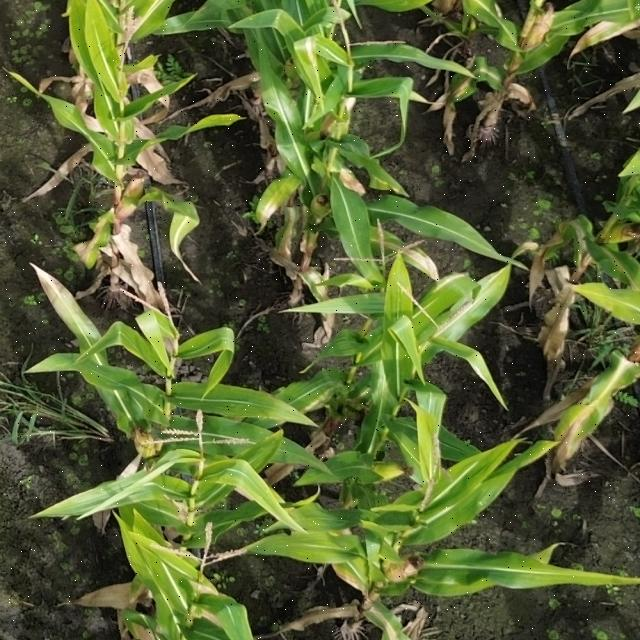northern-leaf-blight: (522, 344, 629, 475), (27, 264, 116, 364), (361, 219, 456, 288), (278, 26, 366, 80), (252, 164, 297, 234)
southern-leaf-blight: (438, 449, 516, 518)
